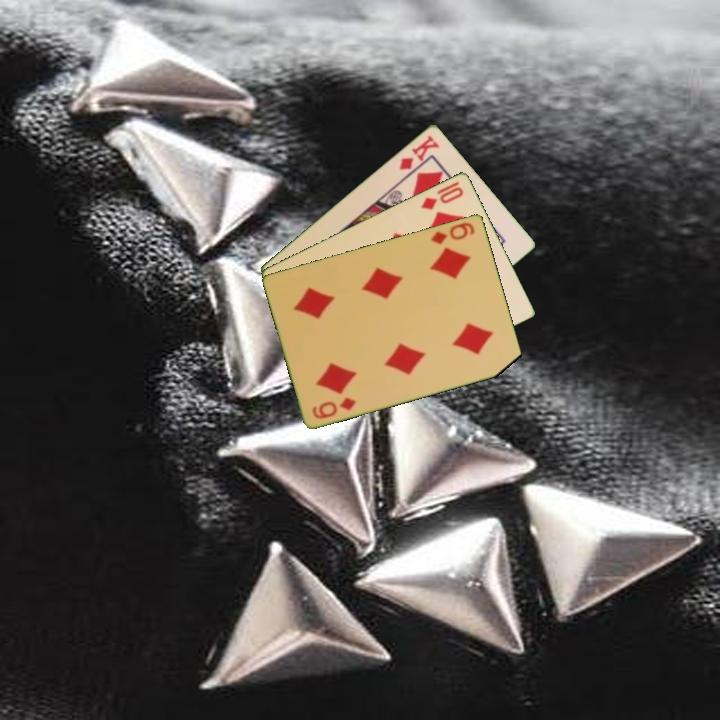10d: (417, 183, 467, 212)
6d: (427, 218, 478, 247), (309, 393, 359, 422)
Kd: (396, 131, 442, 173)
